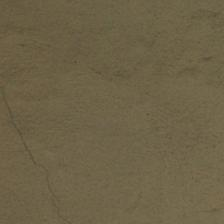Crack: (5, 96, 66, 209)
